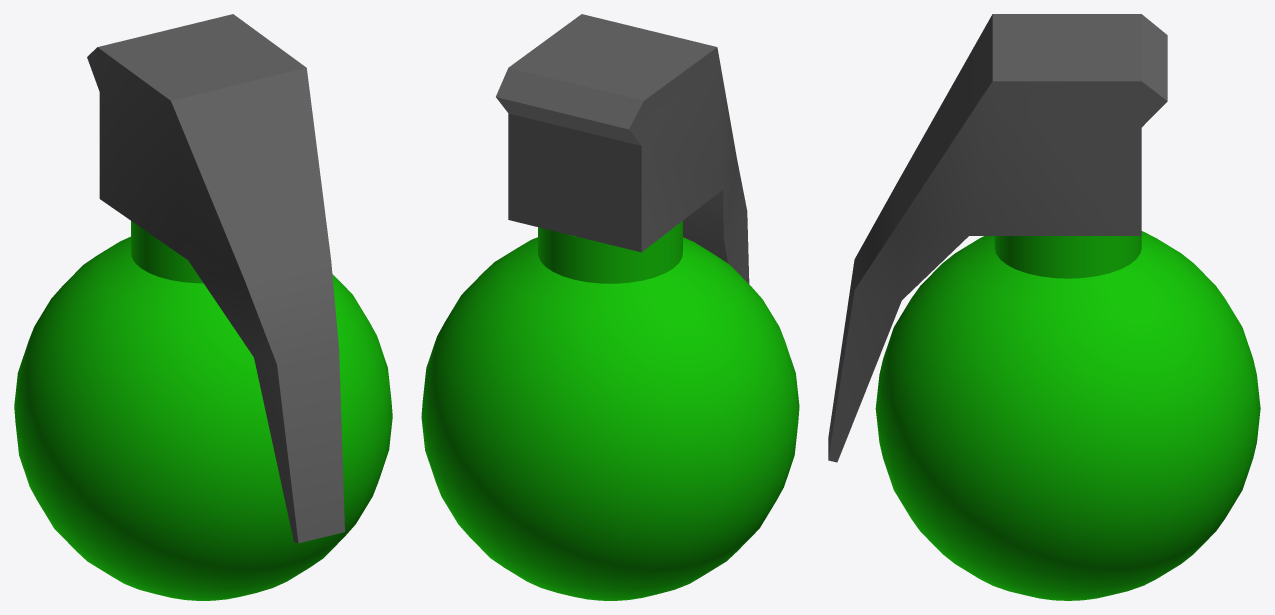
File: Granade.FBX
3 views of the same model, side by side, from view 1: azimuth 30°, elevation 25°; view 2: azimuth 150°, elevation 25°; view 3: azimuth 270°, elevation 25° (orthographic).
Visible parts, largest first — view 1: Base, Grip; view 2: Base, Grip; view 3: Base, Grip.
Part boxes in pixels (x1=…): Base: x1=14, y1=221, x2=392, y2=600; Grip: x1=87, y1=14, x2=344, y2=543; Base: x1=421, y1=221, x2=799, y2=600; Grip: x1=496, y1=14, x2=749, y2=283; Base: x1=875, y1=231, x2=1260, y2=600; Grip: x1=828, y1=14, x2=1167, y2=462.
Bounding box in the file's own units: 0.127 × 0.1946 × 0.1426.
